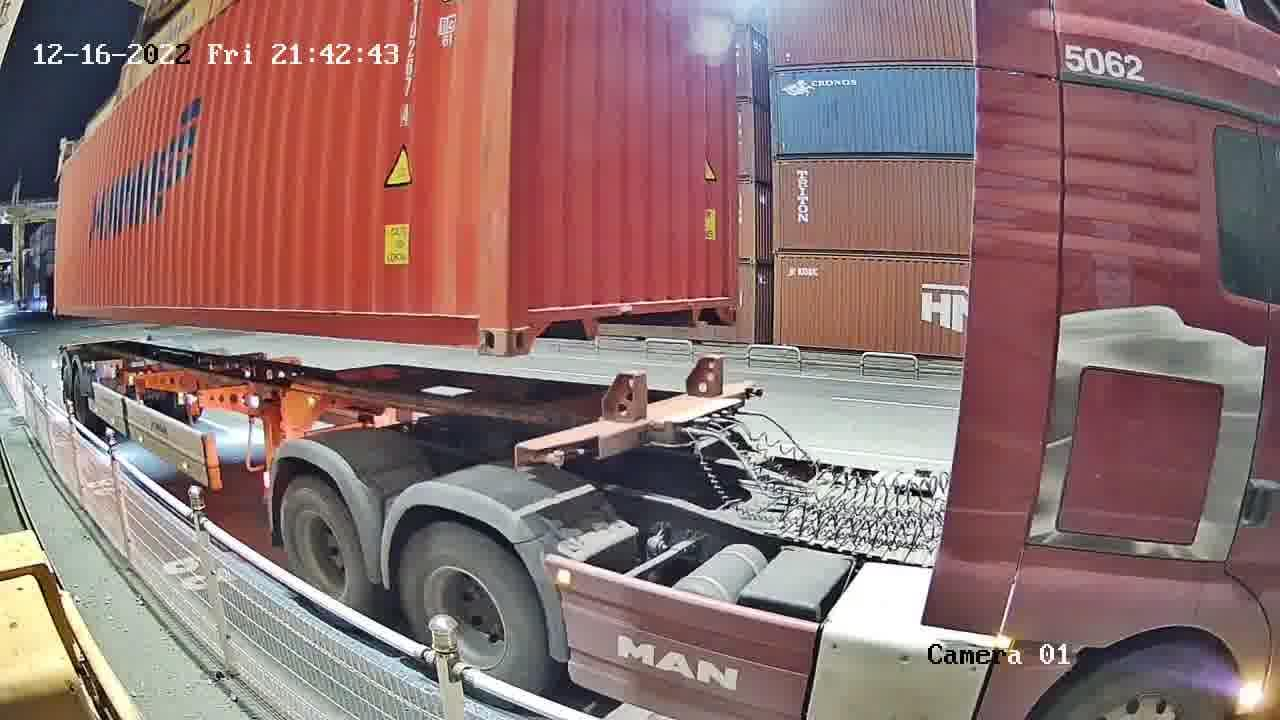Chassis: (513, 373, 762, 476)
Container: (504, 278, 740, 360)
Hole_L: (506, 275, 546, 358)
Hole_R: (453, 275, 507, 358), (714, 278, 740, 329)
Tire: (405, 529, 557, 697), (279, 482, 370, 612)
